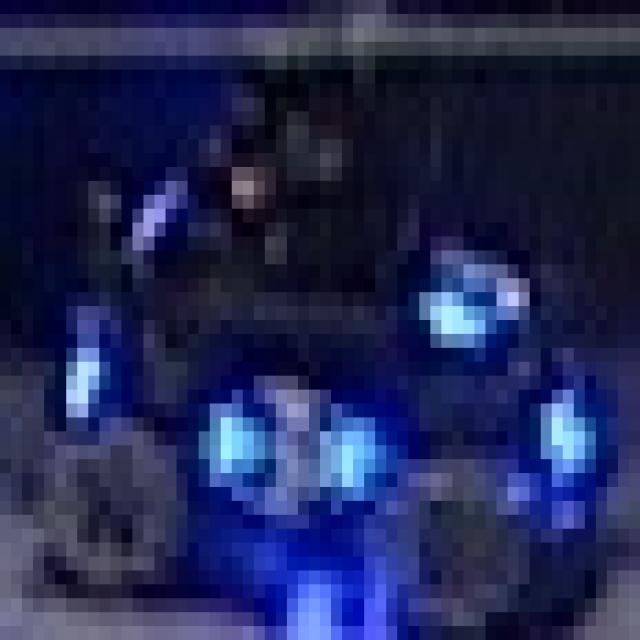B3: (199, 362, 375, 515)
